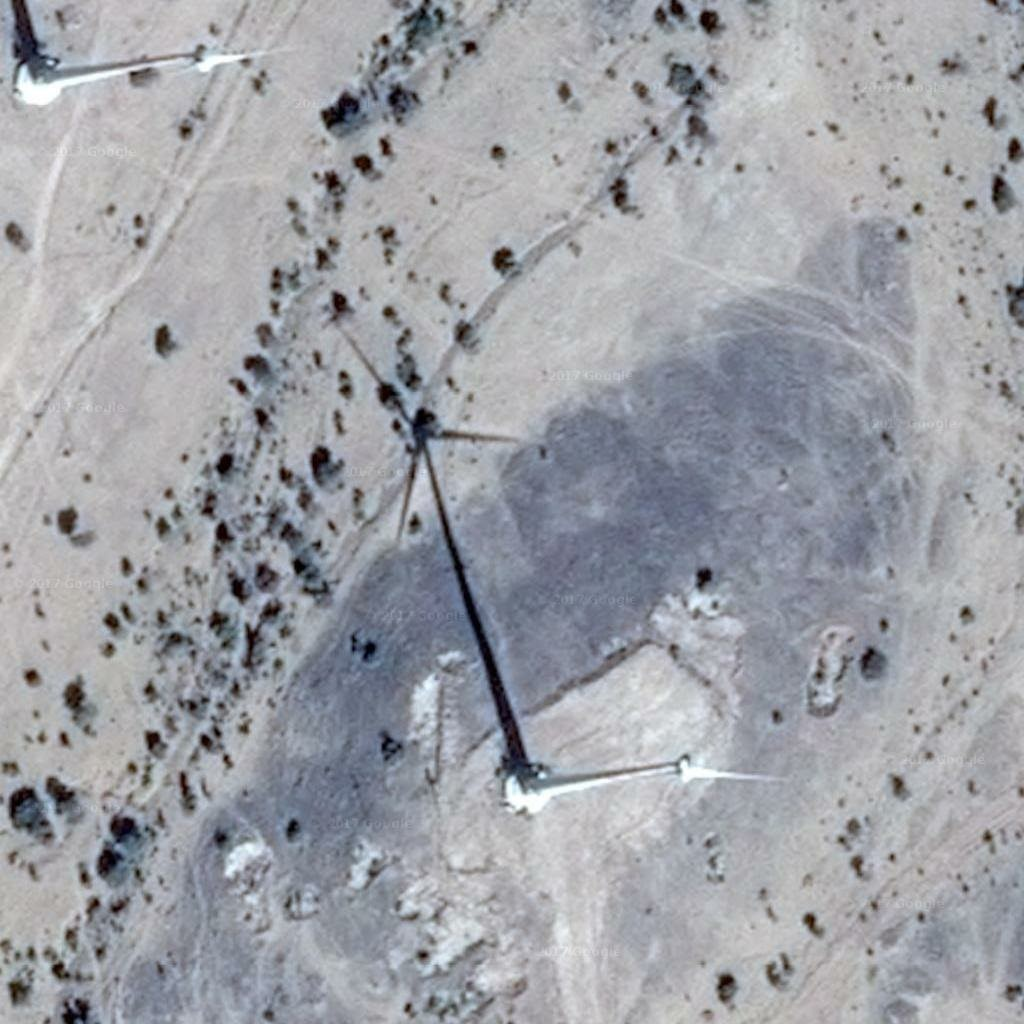Windmill: (327, 311, 551, 735)
